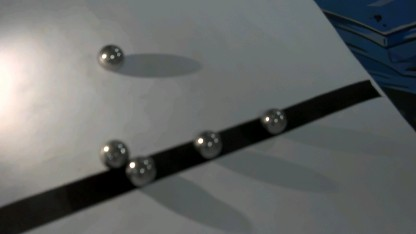ironball: (91, 135, 131, 166), (187, 127, 226, 158), (122, 150, 153, 182), (95, 38, 123, 69), (259, 105, 285, 132)
